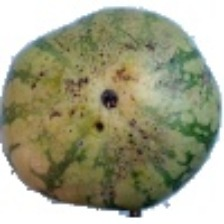watermelon: (43, 40, 208, 183)
